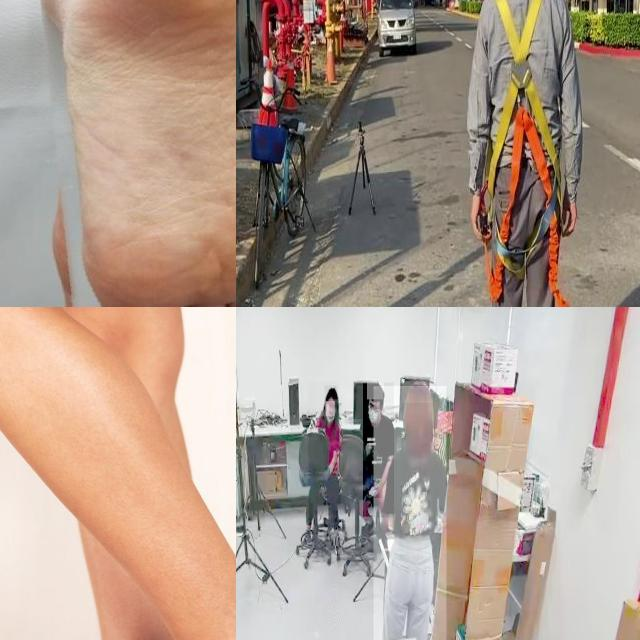Barefoots: (0, 0, 236, 307)
Harness: (475, 0, 570, 283)
face_mask: (367, 400, 381, 427)
face_nomask: (326, 401, 336, 417)
hand_noglove: (373, 480, 383, 499)
head_nohelmet: (402, 381, 433, 404), (367, 382, 384, 400), (324, 385, 338, 400)
person: (373, 386, 446, 640), (308, 382, 342, 554), (363, 382, 394, 518)
